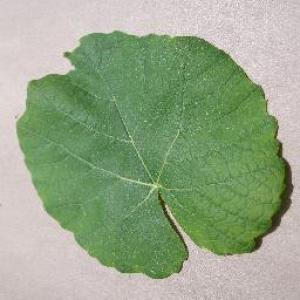Folha: (14, 29, 288, 279)
